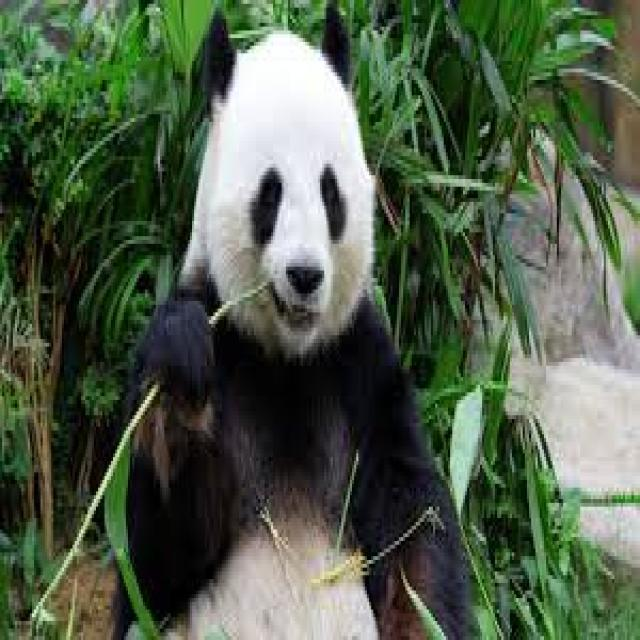Panda: (108, 1, 484, 635)
